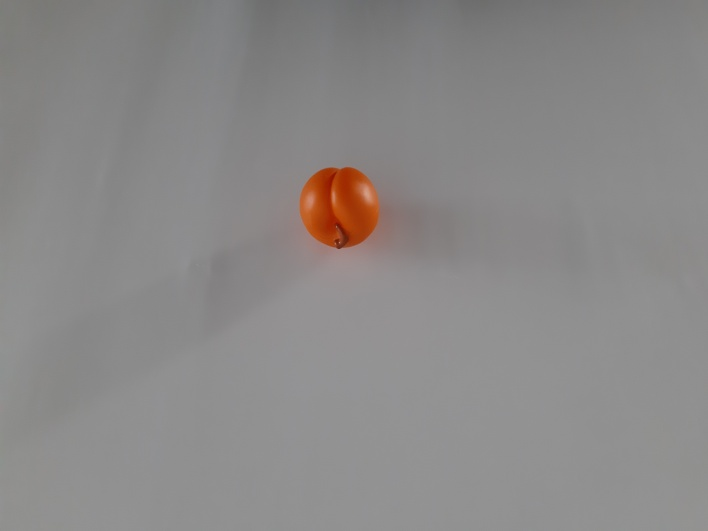apricot: (279, 153, 403, 271)
